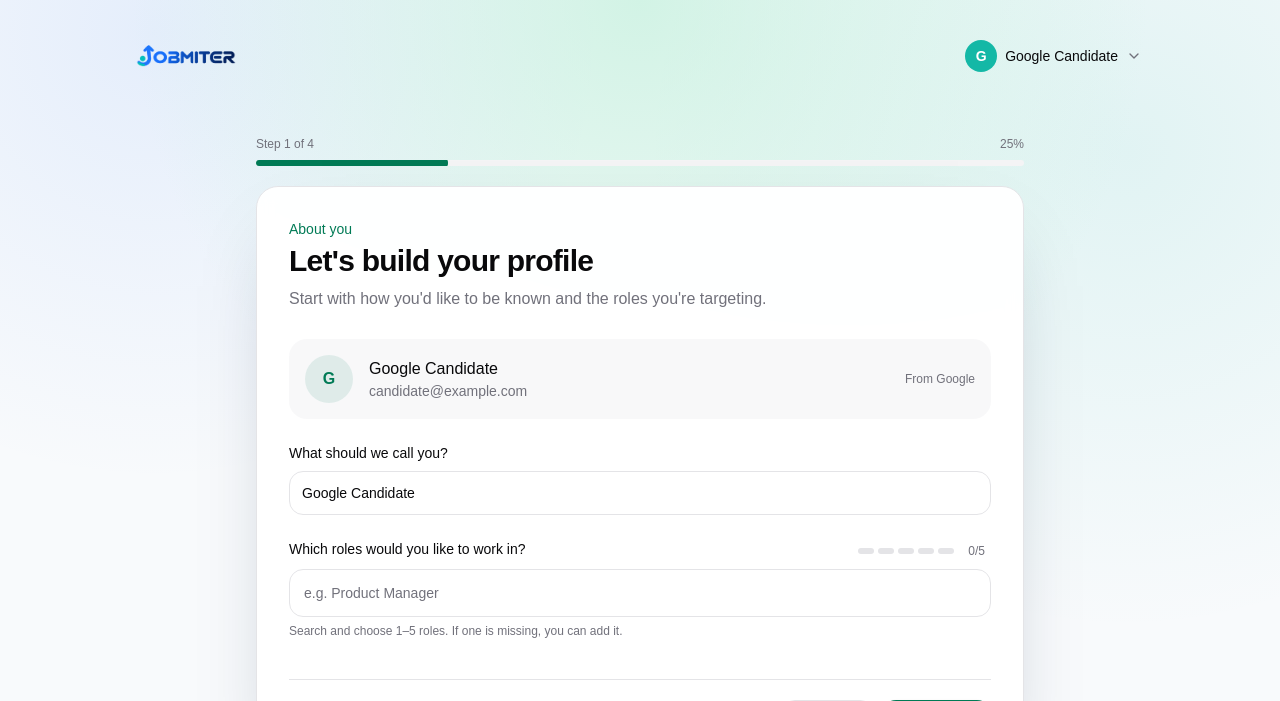
Test: candidate profile onboarding › shows field validation and does not submit an incomplete step
This screenshot has width=1280, height=701.
Clear the field labelled "What should we call you?": (640, 493) [289,471,991,515]
(page scrolled)
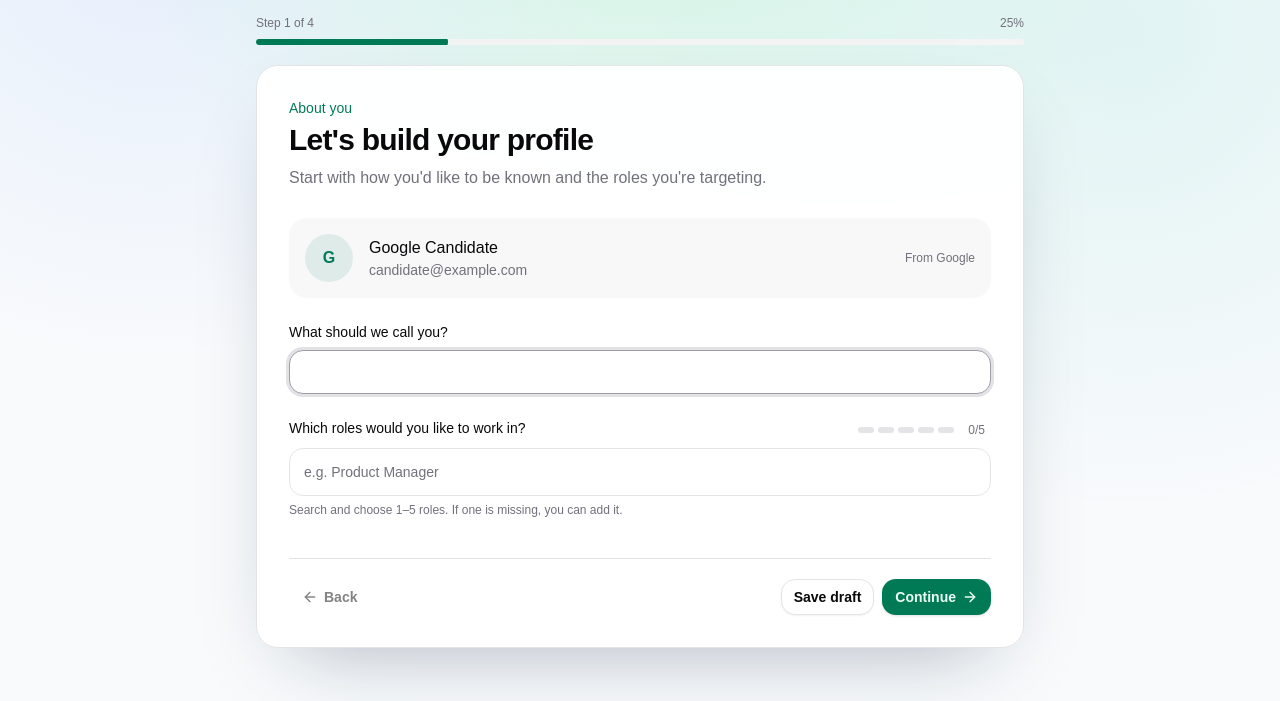
Click the button "Continue": (937, 597) [882,579,991,615]
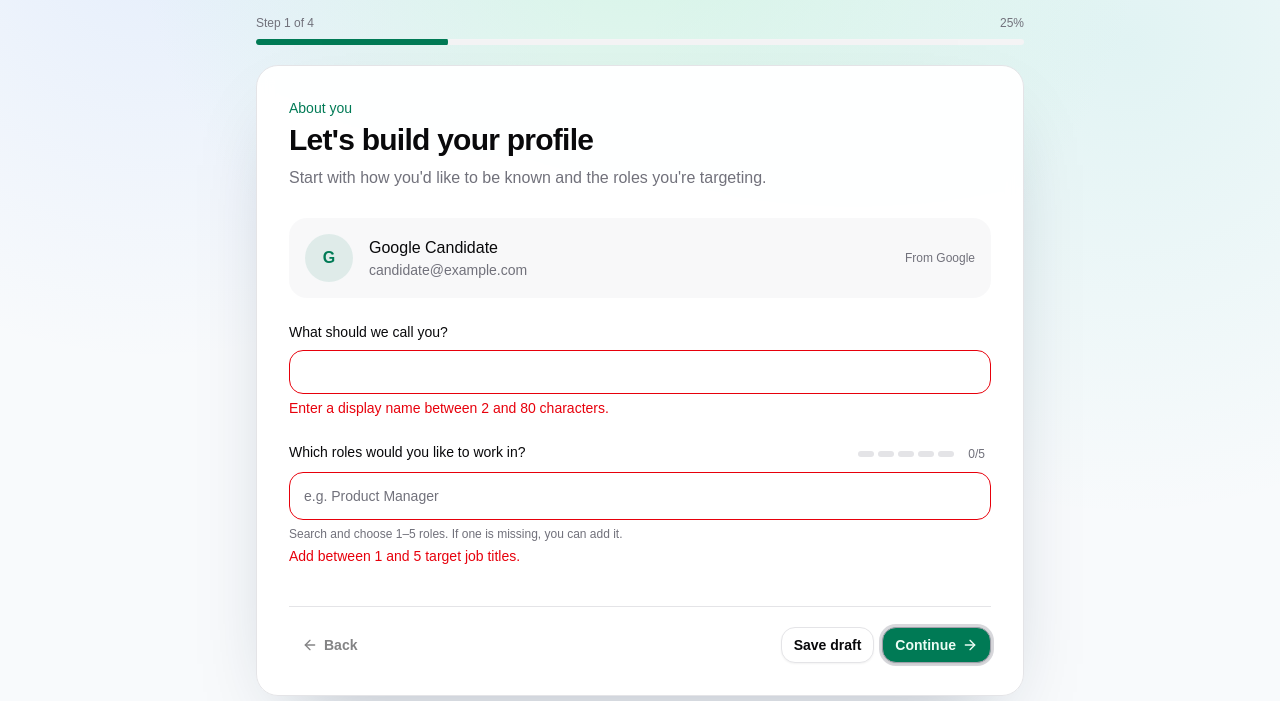
Check: the text "Enter a display name between 2 and 80 characters." is shown, box [289,400,609,416]
Check: the text "Add between 1 and 5 target job titles." is shown, box [289,548,520,564]
